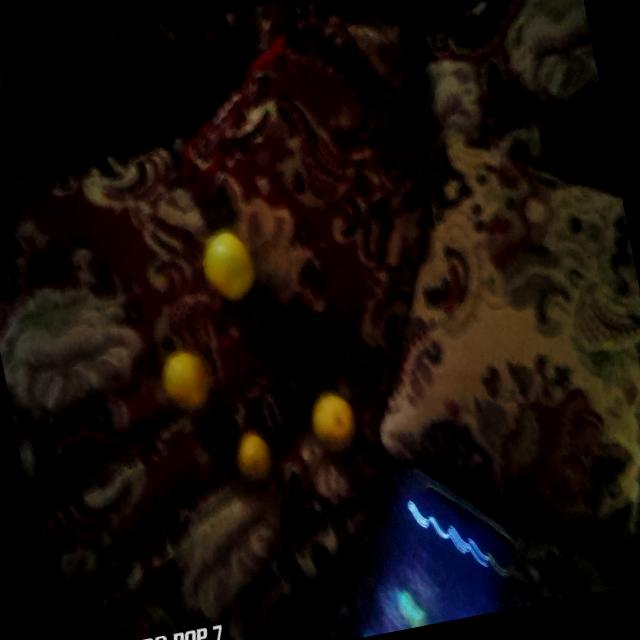Ripe orange: (185, 212, 261, 316), (148, 342, 224, 418), (304, 384, 366, 470), (228, 426, 278, 496)
